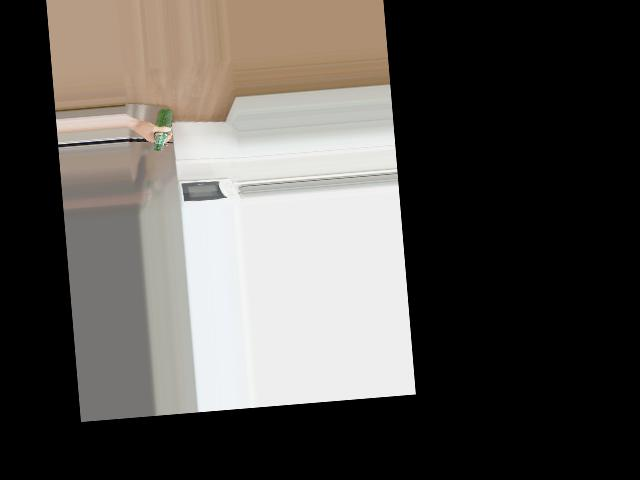beer: (150, 107, 175, 151)
